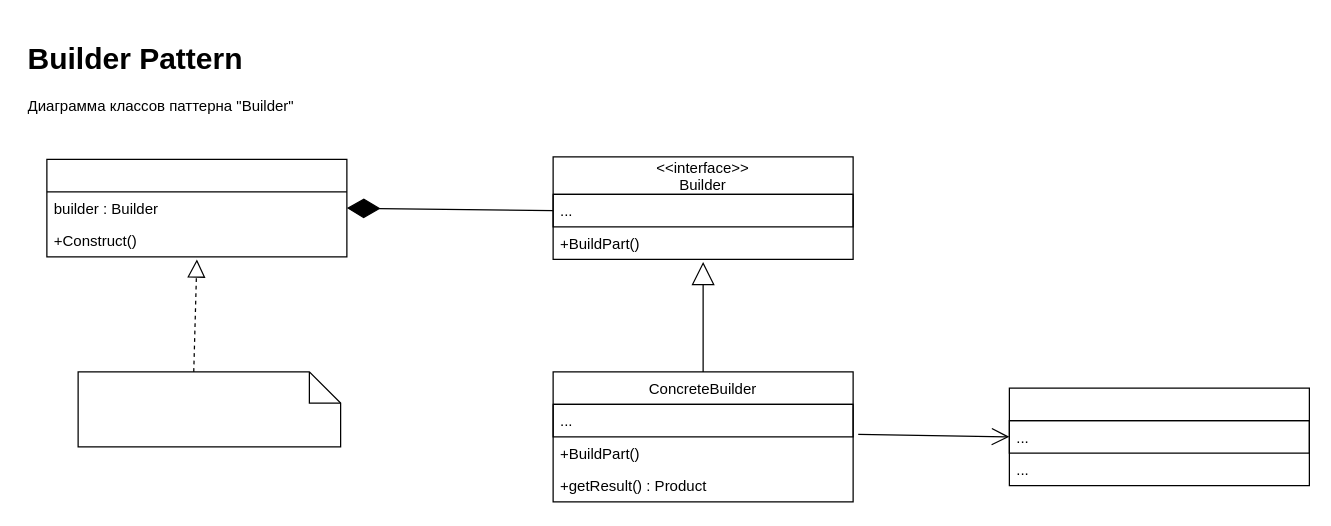
The diagram is 1331 pixels wide and 526 high, and some of its shapes have lost their labels. Here are the shapes that lost their labels. From the top down, the box of each, then its label:
(46, 158, 347, 257): Director
(77, 371, 341, 447): builder:BuildPart()
(1008, 387, 1309, 486): Product
